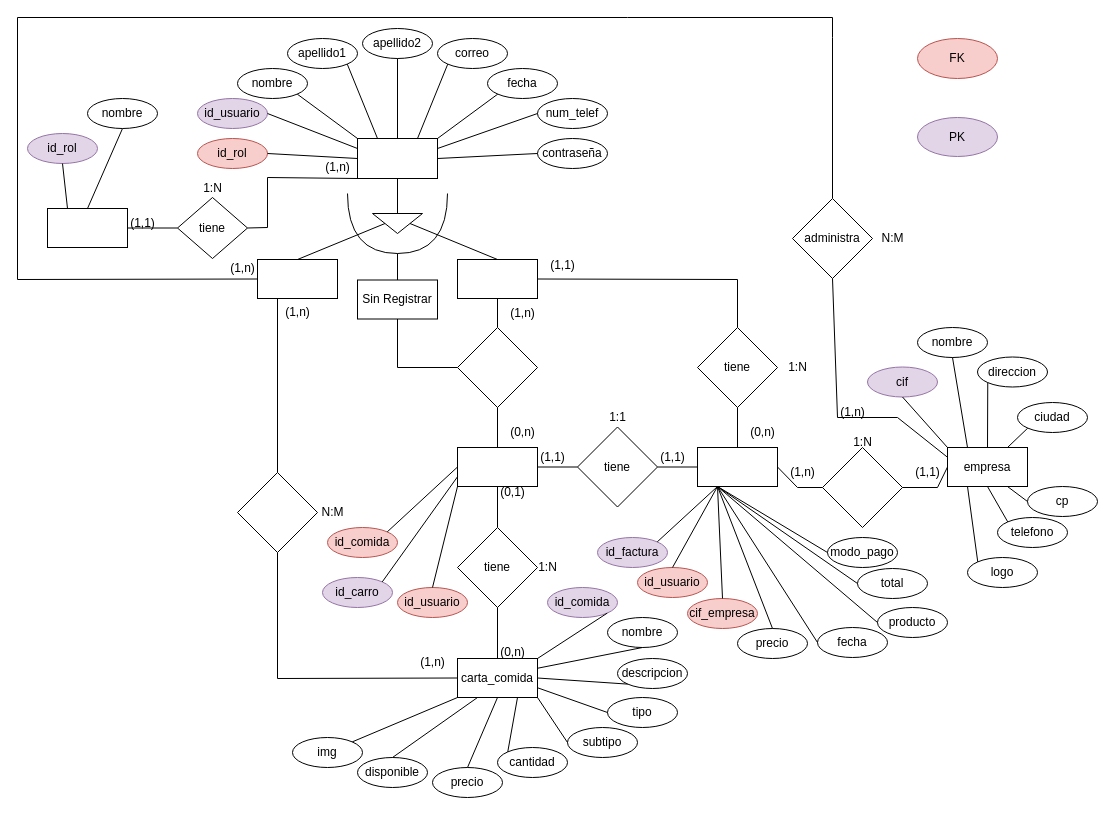
Image size: 1115x815. Some labels were removed from this diagram. The shapes that lost their labels are listed below. From the top down, each one's centre as x and y in pixels, then its label:
At point (397, 158): "Usuario".
At point (87, 228): "rol".
At point (297, 278): "Administrador".
At point (497, 278): "Registrado".
At point (497, 367): "realiza".
At point (497, 466): "carrito/pedido".
At point (737, 466): "factura".
At point (862, 487): "emite".
At point (277, 512): "actualiza".
